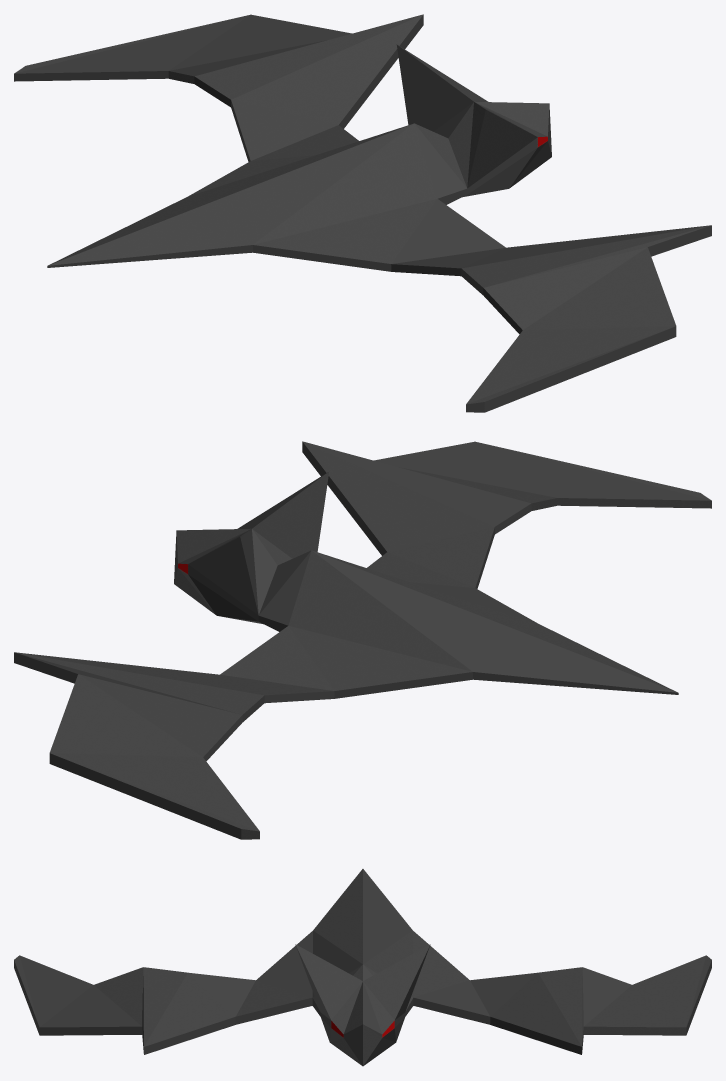
Rendered from Bat.obj.
The picture shows the model from 3 angles, top to bottom: view 1: azimuth 30°, elevation 25°; view 2: azimuth 150°, elevation 25°; view 3: azimuth 270°, elevation 25°; orthographic projection. The views are drawn at different scales.
Parts seen in each view (by area): view 1: Box001; view 2: Box001; view 3: Box001.
Part boxes in pixels (x1,y1,x2,y2): Box001: (14, 14, 711, 412); Box001: (14, 441, 711, 839); Box001: (14, 869, 711, 1066).
Bounding box in the file's own units: 101 × 27.55 × 155.
Materials: 1 (1 with a texture image).
